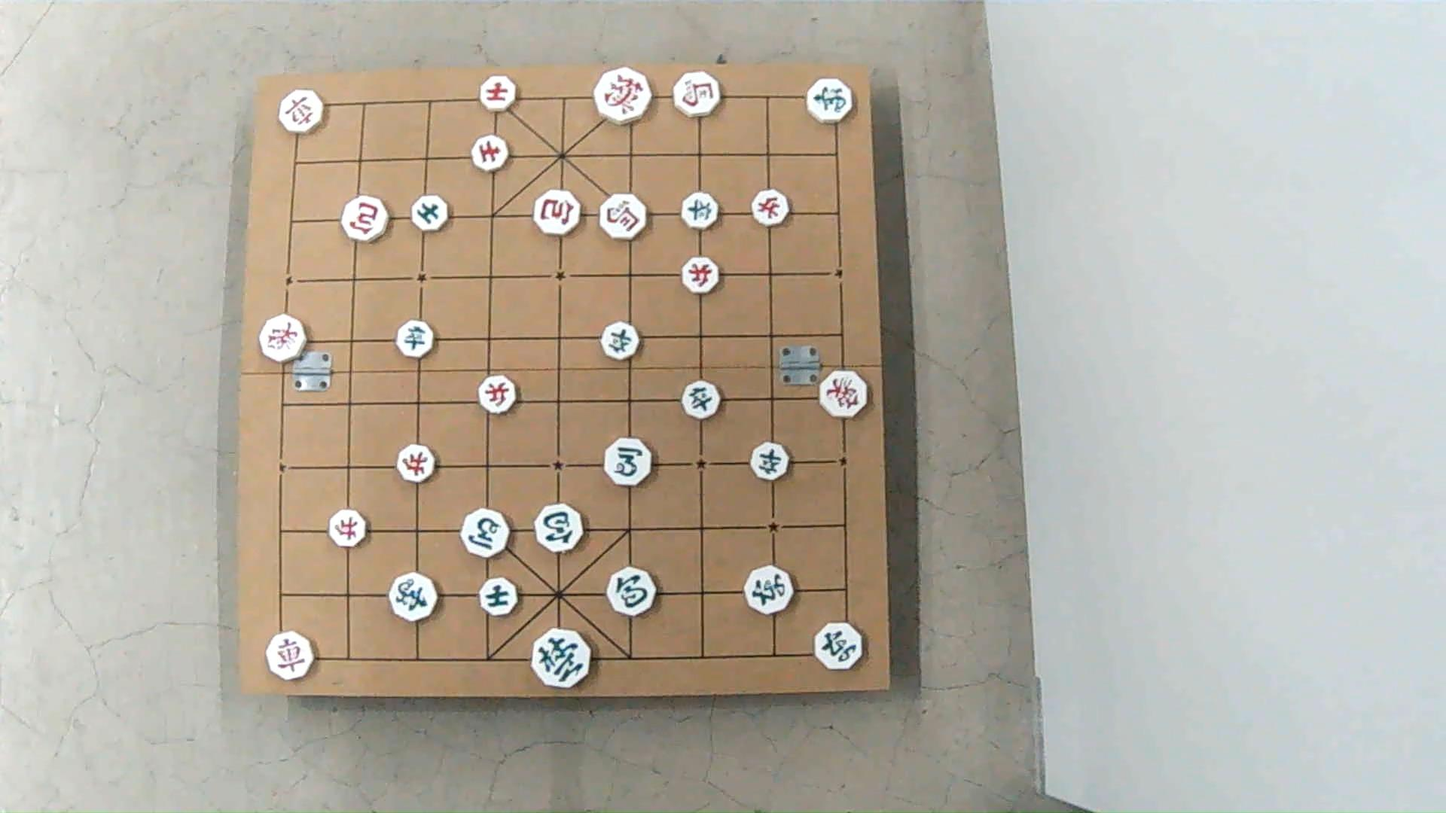cha_green: (746, 566, 795, 614), (812, 622, 860, 668)
cha_red: (269, 632, 316, 680), (281, 93, 325, 136)
jol_green: (680, 382, 719, 421), (604, 323, 641, 361), (397, 321, 435, 358), (752, 444, 789, 482), (682, 194, 720, 230)
jol_red: (478, 376, 515, 416), (329, 508, 367, 546), (396, 446, 435, 483), (754, 190, 792, 227), (685, 258, 722, 295)
ma_green: (461, 510, 509, 559), (606, 437, 652, 485)
ma_red: (602, 194, 649, 239), (676, 73, 721, 118)
po_green: (534, 505, 583, 553), (608, 569, 657, 617)
po_red: (534, 190, 581, 235), (340, 196, 387, 241)
sa_green: (478, 577, 517, 615), (412, 194, 450, 231)
sa_red: (472, 136, 510, 172), (479, 75, 515, 111)
sang_green: (391, 573, 438, 622), (804, 79, 850, 123)
sang_red: (818, 371, 865, 418), (258, 317, 304, 364)
wang_green: (532, 628, 591, 687)
wang_red: (596, 69, 652, 124)
